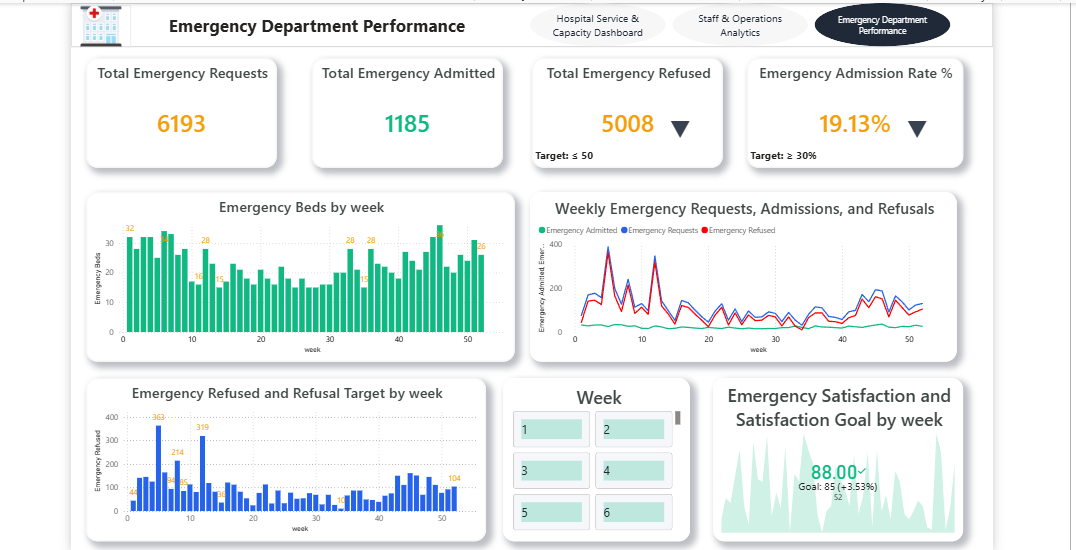

The dashboard page shown, as its layout file describes it:
{"tool":"powerbi","page":{"name":"Emergency Department Performance","canvas":[1445,859],"ordinal":2},"visuals":[{"type":"card","title":"Total Emergency Requests","fields":{"Values":["measuretable.Emergency Requests"]},"box":[23.5,86.2,299.4,172.4],"z":0},{"type":"shape","box":[0,0,1445.2,68.8],"z":1000},{"type":"card","title":"Total Emergency Admitted","fields":{"Values":["measuretable.Emergency Admitted"]},"box":[377.8,86.2,299.4,172.4],"z":2000},{"type":"card","title":"Total Emergency Refused","fields":{"Values":["measuretable.Emergency Refused"]},"box":[722.6,86.2,299.4,172.4],"z":3000},{"type":"card","title":"Emergency Admission Rate %","fields":{"Values":["measuretable.Emergency Admission Rate %"]},"box":[1059.6,86.2,338.6,172.4],"z":4000},{"type":"textbox","box":[94.1,11,583.1,47],"z":5000},{"type":"card","fields":{"Values":["measuretable.Emergency Admission Arrow"]},"box":[1254,172.4,144.2,50.2],"z":6000},{"type":"textbox","box":[1059.6,222.6,235.1,36.1],"z":7000},{"type":"card","fields":{"Values":["measuretable.Total Emergency Refused Arrow"]},"box":[849.6,163,210,69],"z":8000},{"type":"textbox","box":[722.6,222.6,186.5,53.3],"z":9000},{"type":"clusteredColumnChart","fields":{"Category":["hospital services_weekly.week"],"Y":["measuretable.Emergency Beds"]},"box":[23.5,296.3,672.5,266.5],"z":10000},{"type":"lineChart","title":"Weekly Emergency Requests, Admissions, and Refusals","fields":{"Y":["measuretable.Emergency Admitted","measuretable.Emergency Requests","measuretable.Emergency Refused"],"Category":["hospital services_weekly.week"]},"box":[719.5,296.3,669.3,266.5],"z":11000},{"type":"kpi","fields":{"Indicator":["measuretable.Emergency Satisfaction"],"Goal":["measuretable.Satisfaction Goal"],"TrendLine":["hospital services_weekly.week"]},"box":[1006.3,587.8,391.9,255.5],"z":12000},{"type":"advancedSlicerVisual","title":"Week","fields":{"Values":["hospital services_weekly.week"]},"box":[677.2,587.8,293.1,255.5],"z":13000},{"type":"clusteredColumnChart","fields":{"Category":["hospital services_weekly.week"],"Y":["measuretable.Emergency Refused"]},"box":[23.5,587.8,627,255.5],"z":14000},{"type":"pageNavigator","box":[719.5,0,661.5,69],"z":15000},{"type":"image","box":[0,3.1,94.1,65.8],"z":16000}]}

Visuals, with their boxes on the page's 1445x859 design canvas (x1, y1, x2, y2). These are canvas units, not pixel positions in the 1076x550 screenshot, which may show the page scaled, cropped or inside an application window:
"Total Emergency Requests" card: crop(24, 86, 323, 259)
shape: crop(0, 0, 1445, 69)
"Total Emergency Admitted" card: crop(378, 86, 677, 259)
"Total Emergency Refused" card: crop(723, 86, 1022, 259)
"Emergency Admission Rate %" card: crop(1060, 86, 1398, 259)
textbox: crop(94, 11, 677, 58)
card - measuretable.Emergency Admission Arrow: crop(1254, 172, 1398, 223)
textbox: crop(1060, 223, 1295, 259)
card - measuretable.Total Emergency Refused Arrow: crop(850, 163, 1060, 232)
textbox: crop(723, 223, 909, 276)
clusteredColumnChart - hospital services_weekly.week x measuretable.Emergency Beds: crop(24, 296, 696, 563)
"Weekly Emergency Requests, Admissions, and Refusals" lineChart: crop(720, 296, 1389, 563)
kpi - measuretable.Emergency Satisfaction x measuretable.Satisfaction Goal: crop(1006, 588, 1398, 843)
"Week" advancedSlicerVisual: crop(677, 588, 970, 843)
clusteredColumnChart - hospital services_weekly.week x measuretable.Emergency Refused: crop(24, 588, 650, 843)
pageNavigator: crop(720, 0, 1381, 69)
image: crop(0, 3, 94, 69)
